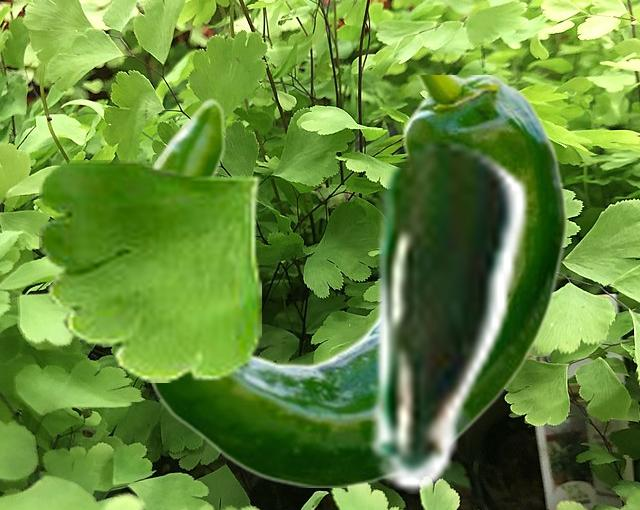green_chili: (146, 75, 568, 486), (361, 137, 530, 492)
